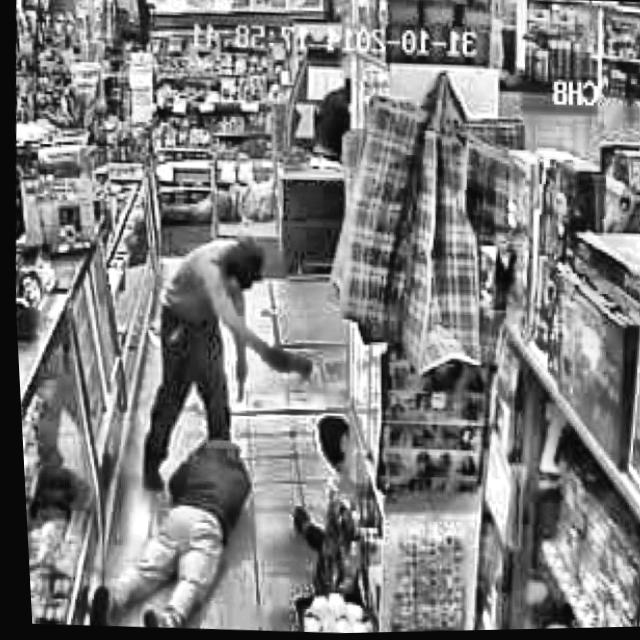robbery: (69, 395, 355, 639), (124, 229, 324, 506)
